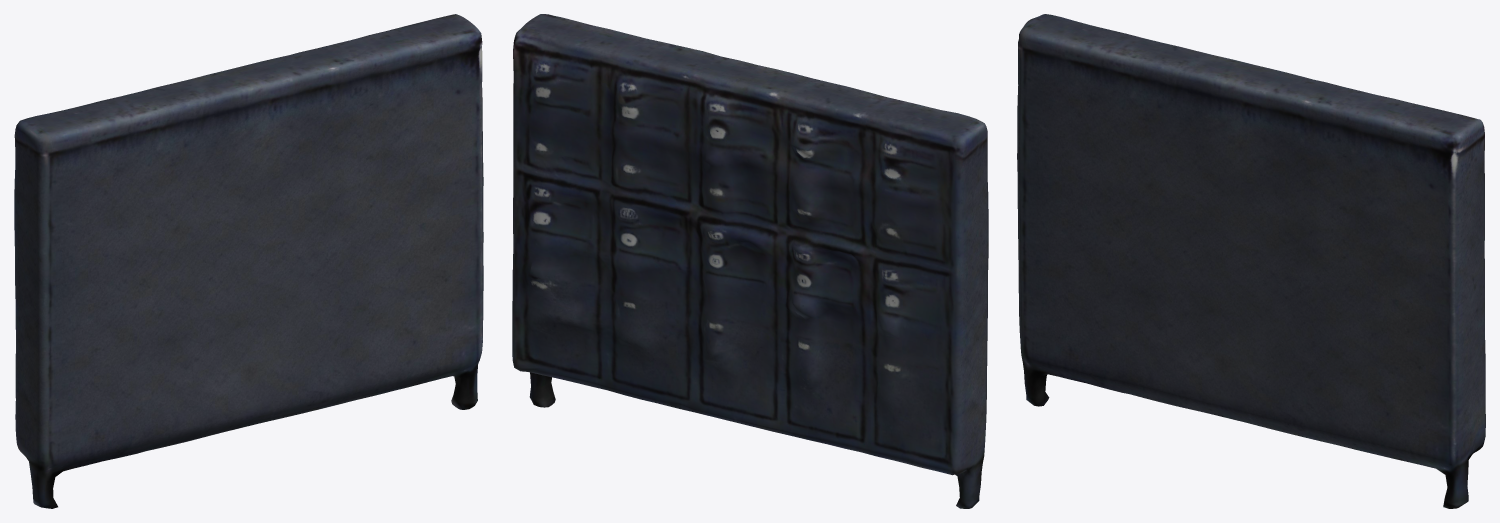
Rendered from mail_boxes.fbx.
The picture shows the model from 3 angles, left to right: view 1: azimuth 30°, elevation 25°; view 2: azimuth 150°, elevation 25°; view 3: azimuth 330°, elevation 25°; orthographic projection.
Parts seen in each view (by area): view 1: mesh; view 2: mesh; view 3: mesh.
Part boxes in pixels (x1,y1,x2,y2): mesh: (14, 14, 483, 508); mesh: (512, 14, 988, 508); mesh: (1017, 14, 1485, 508).
Bounding box in the file's own units: 99.83 × 81.34 × 14.07.
